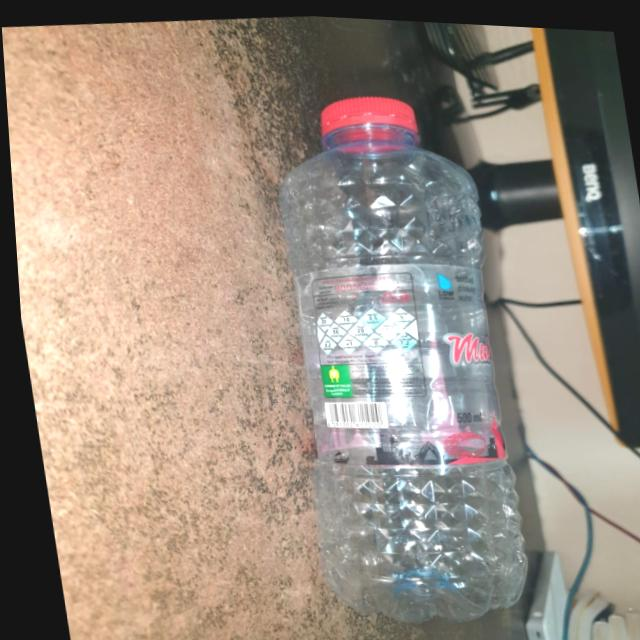anorganik: (218, 64, 558, 636)
